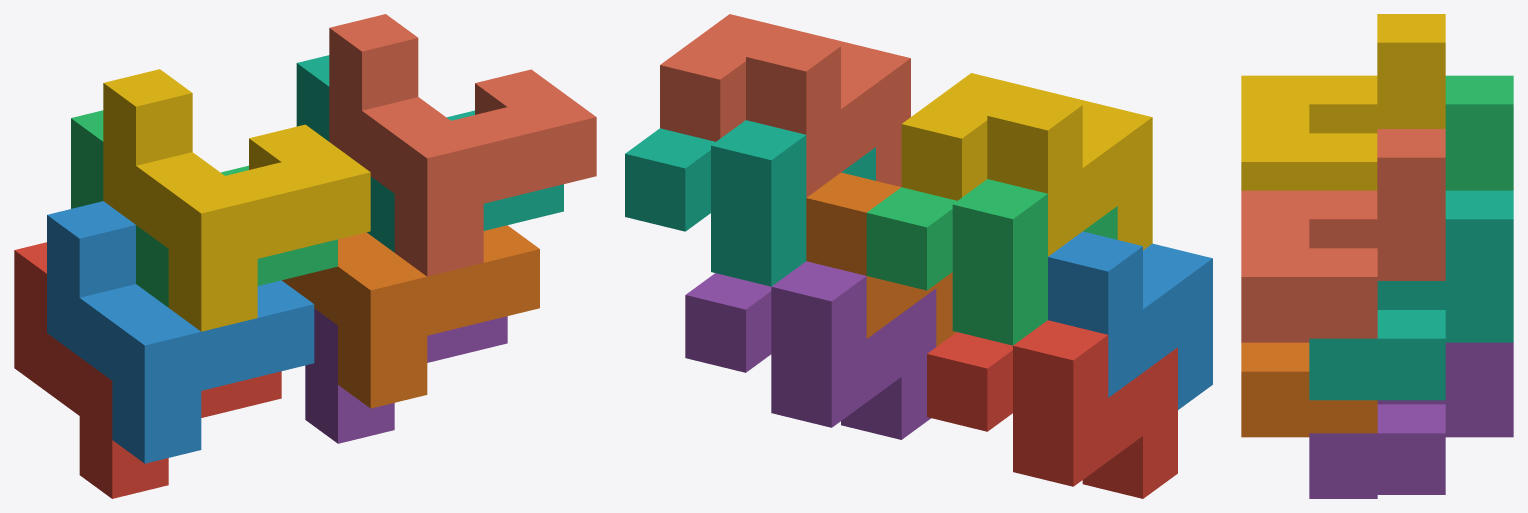
Rendered from tiling.obj.
3 renders of one model, left to right at view 1: azimuth 30°, elevation 25°; view 2: azimuth 150°, elevation 25°; view 3: azimuth 270°, elevation 25°, orthographic. The views are drawn at different scales.
Visible parts, largest first — view 1: copy_1_domain_4, copy_1_domain_8, copy_1_domain_2, copy_1_domain_6, copy_1_domain_1, copy_1_domain_5, copy_1_domain_3, copy_1_domain_7; view 2: copy_1_domain_1, copy_1_domain_5, copy_1_domain_4, copy_1_domain_8, copy_1_domain_3, copy_1_domain_7, copy_1_domain_2, copy_1_domain_6; view 3: copy_1_domain_8, copy_1_domain_4, copy_1_domain_7, copy_1_domain_5, copy_1_domain_6, copy_1_domain_3.
Part boxes in pixels (left/top/right/bottom): copy_1_domain_4: left=103, top=69, right=370, bottom=331; copy_1_domain_8: left=329, top=14, right=596, bottom=276; copy_1_domain_2: left=47, top=201, right=314, bottom=463; copy_1_domain_6: left=282, top=225, right=539, bottom=408; copy_1_domain_1: left=14, top=242, right=281, bottom=498; copy_1_domain_5: left=305, top=308, right=507, bottom=443; copy_1_domain_3: left=71, top=110, right=337, bottom=307; copy_1_domain_7: left=296, top=55, right=563, bottom=252; copy_1_domain_1: left=927, top=320, right=1177, bottom=498; copy_1_domain_5: left=685, top=261, right=936, bottom=439; copy_1_domain_4: left=901, top=73, right=1152, bottom=256; copy_1_domain_8: left=660, top=14, right=910, bottom=197; copy_1_domain_3: left=866, top=179, right=1117, bottom=345; copy_1_domain_7: left=625, top=120, right=875, bottom=286; copy_1_domain_2: left=1048, top=231, right=1212, bottom=409; copy_1_domain_6: left=806, top=172, right=956, bottom=346; copy_1_domain_8: left=1241, top=129, right=1445, bottom=342; copy_1_domain_4: left=1241, top=14, right=1445, bottom=190; copy_1_domain_7: left=1309, top=190, right=1513, bottom=400; copy_1_domain_5: left=1309, top=342, right=1513, bottom=498; copy_1_domain_6: left=1241, top=342, right=1377, bottom=437; copy_1_domain_3: left=1445, top=75, right=1513, bottom=190.
Size of the model in its own units: 8 by 6 by 4.
